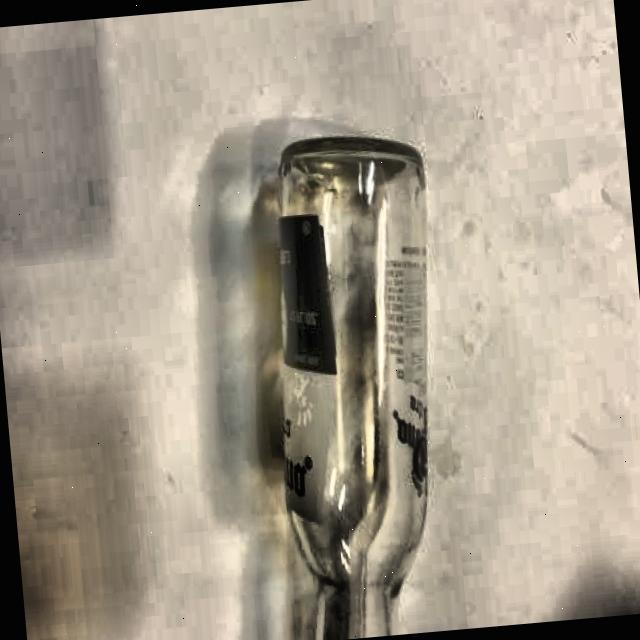glass: (248, 124, 472, 640)
